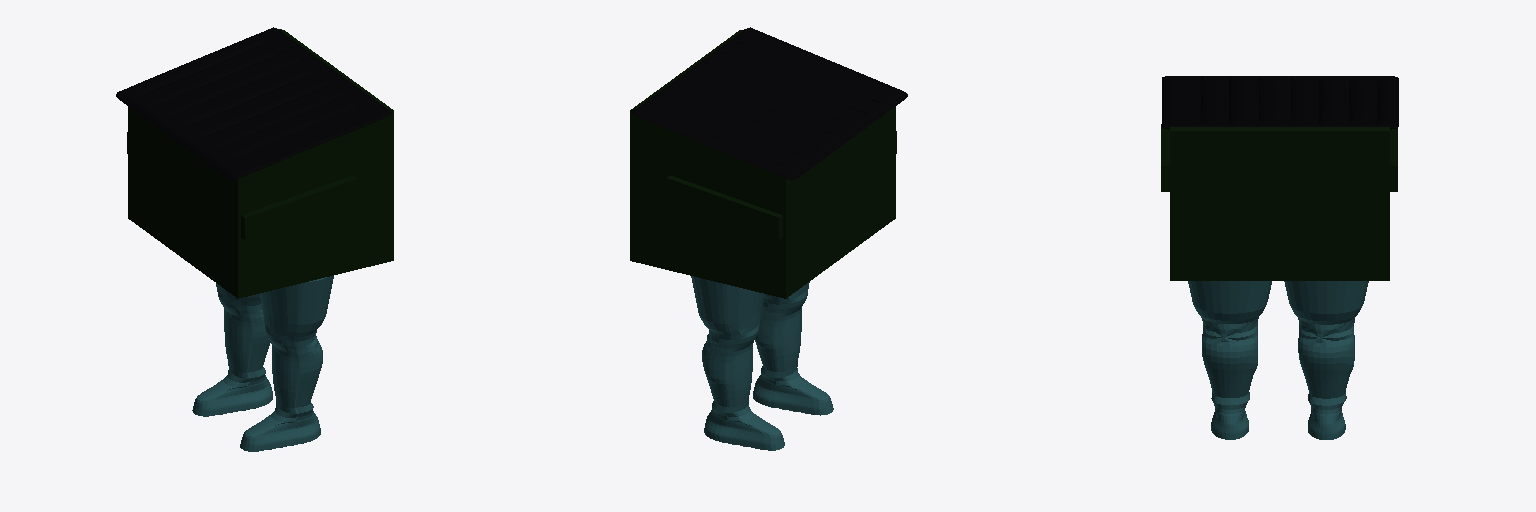
The model's file is dumpster.obj.
3 views of the same model, side by side, from view 1: azimuth 30°, elevation 25°; view 2: azimuth 150°, elevation 25°; view 3: azimuth 270°, elevation 25° (orthographic).
Visible parts, largest first — view 1: polySurface10 pCube9, pCube9 polySurface11, pasted__pasted__pasted__pCylinder2 pasted__pasted__group8 pasted, pasted__pasted__pCylinder2 pasted__group8 group9; view 2: polySurface10 pCube9, pCube9 polySurface11, pasted__pasted__pCylinder2 pasted__group8 group9, pasted__pasted__pasted__pCylinder2 pasted__pasted__group8 pasted; view 3: polySurface10 pCube9, pCube9 polySurface11, pasted__pasted__pCylinder2 pasted__group8 group9, pasted__pasted__pasted__pCylinder2 pasted__pasted__group8 pasted.
Boxes of the visible parts, <box> form: polySurface10 pCube9: <box>127,29,393,298</box>; pCube9 polySurface11: <box>116,27,391,180</box>; pasted__pasted__pasted__pCylinder2 pasted__pasted__group8 pasted: <box>240,276,333,451</box>; pasted__pasted__pCylinder2 pasted__group8 group9: <box>192,283,272,416</box>; polySurface10 pCube9: <box>630,29,896,298</box>; pCube9 polySurface11: <box>632,27,907,180</box>; pasted__pasted__pCylinder2 pasted__group8 group9: <box>691,276,784,450</box>; pasted__pasted__pasted__pCylinder2 pasted__pasted__group8 pasted: <box>753,282,833,415</box>; polySurface10 pCube9: <box>1161,124,1397,280</box>; pCube9 polySurface11: <box>1162,76,1398,129</box>; pasted__pasted__pCylinder2 pasted__group8 group9: <box>1284,281,1368,439</box>; pasted__pasted__pasted__pCylinder2 pasted__pasted__group8 pasted: <box>1188,281,1271,439</box>.
Bounding box in the file's own units: 1.84 × 3.58 × 2.29.